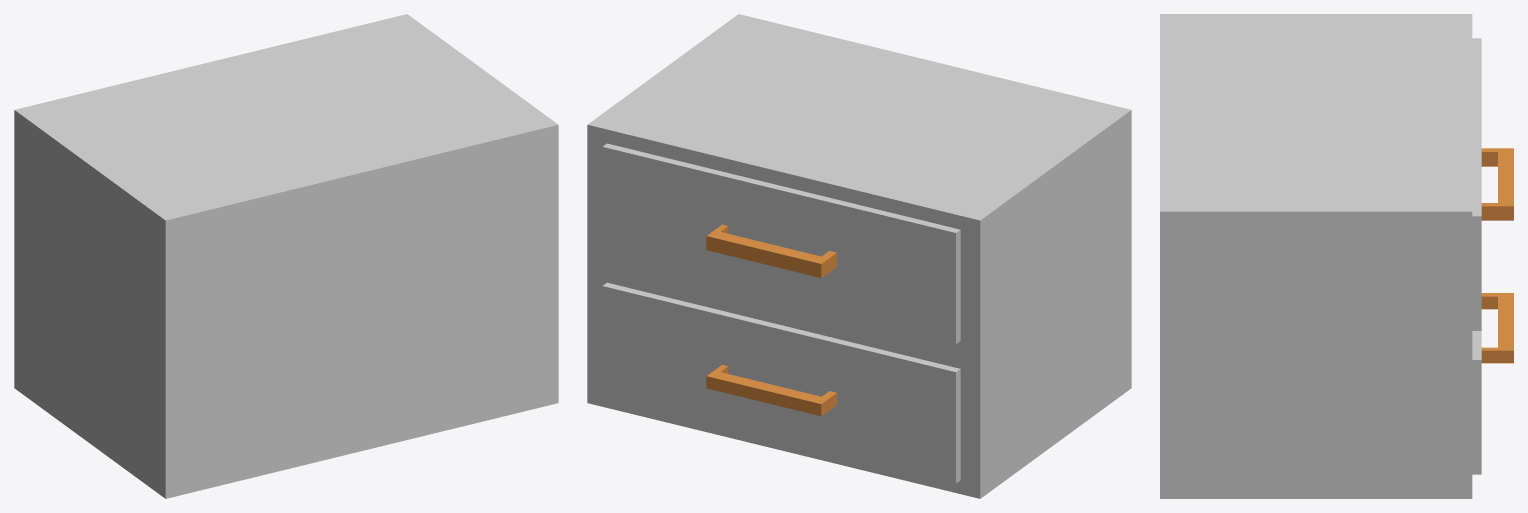
Rendered from Dresser 1.fbx.
3 views of the same model, side by side, from view 1: azimuth 30°, elevation 25°; view 2: azimuth 150°, elevation 25°; view 3: azimuth 270°, elevation 25° (orthographic). The views are drawn at different scales.
Visible parts, largest first — view 1: Cube.002; view 2: Cube.002; view 3: Cube.002.
Boxes of the visible parts, <box> form: Cube.002: <box>14,14,558,498</box>; Cube.002: <box>587,14,1131,498</box>; Cube.002: <box>1160,14,1513,498</box>.
Size of the model in its own units: 78.2 by 52.95 by 59.1.
